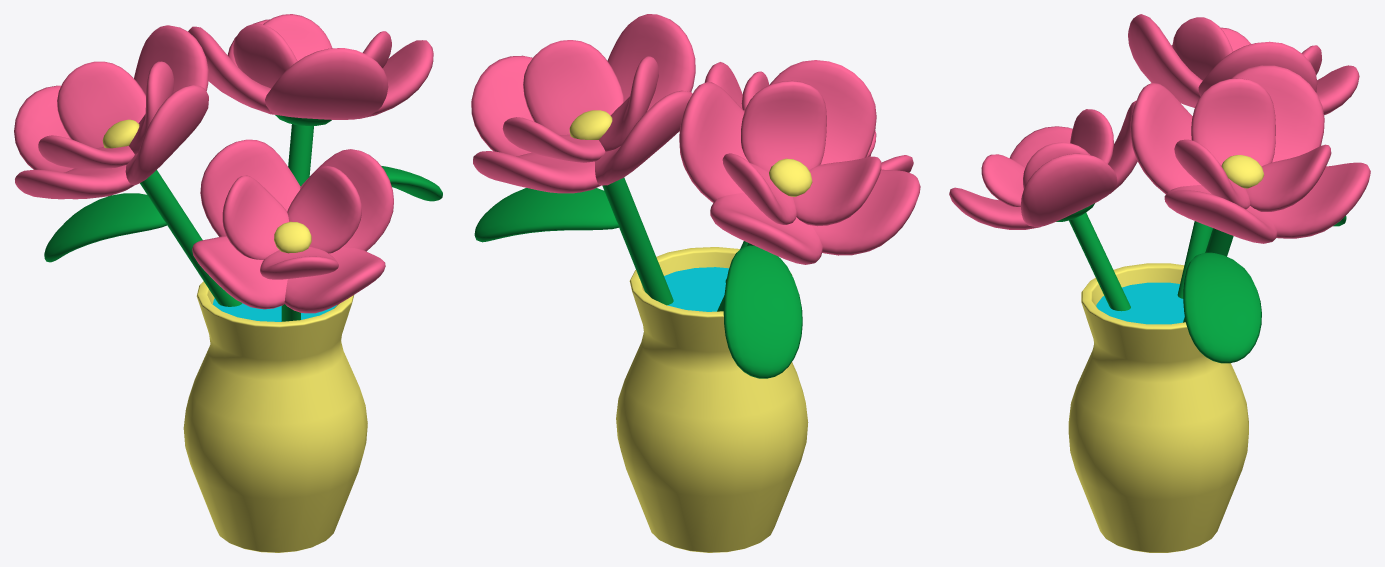
File: City_19_Vase_with_Flowers_1.glb
The picture shows the model from 3 angles, left to right: view 1: azimuth 30°, elevation 25°; view 2: azimuth 150°, elevation 25°; view 3: azimuth 270°, elevation 25°; orthographic projection. The views are drawn at different scales.
Parts seen in each view (by area): view 1: City_19_Vase_with_Flowers_1; view 2: City_19_Vase_with_Flowers_1; view 3: City_19_Vase_with_Flowers_1.
Boxes of the visible parts, x1=… form: City_19_Vase_with_Flowers_1: x1=14, y1=14, x2=442, y2=552; City_19_Vase_with_Flowers_1: x1=471, y1=14, x2=920, y2=552; City_19_Vase_with_Flowers_1: x1=949, y1=14, x2=1370, y2=552.
Size of the model in its own units: 0.425 by 0.4617 by 0.3776.
Materials: 1 (1 with a texture image).
